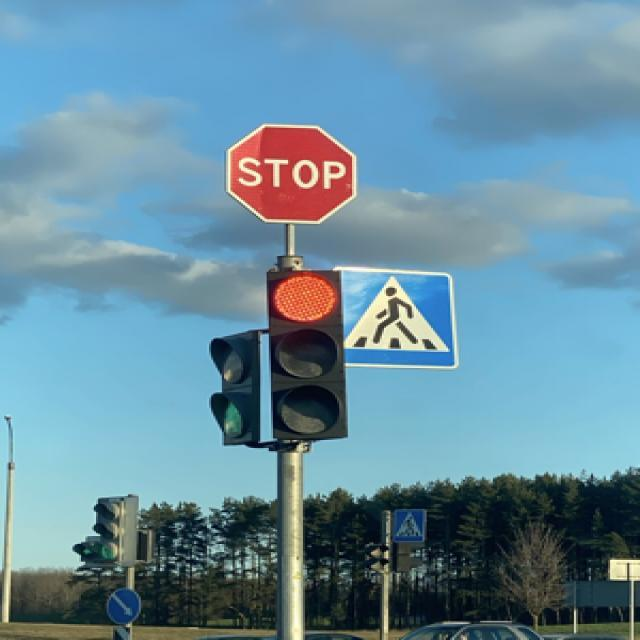crosswalk_sign: (332, 264, 461, 372)
stop: (224, 121, 360, 226)
